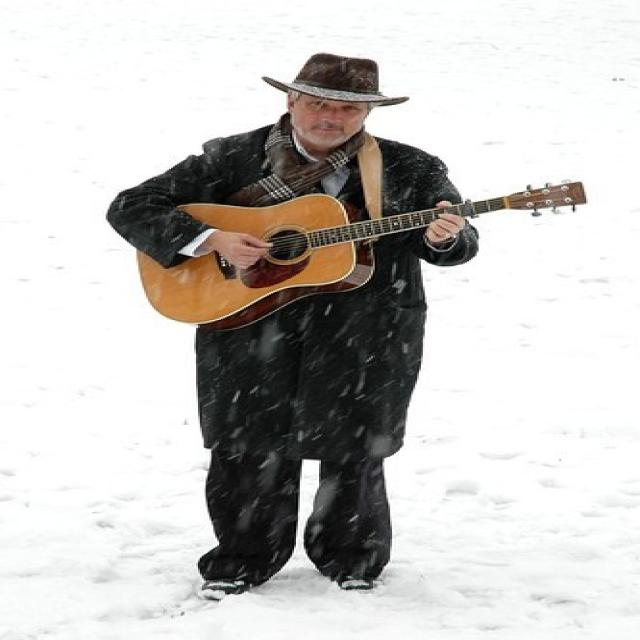guitar: (130, 179, 590, 331)
